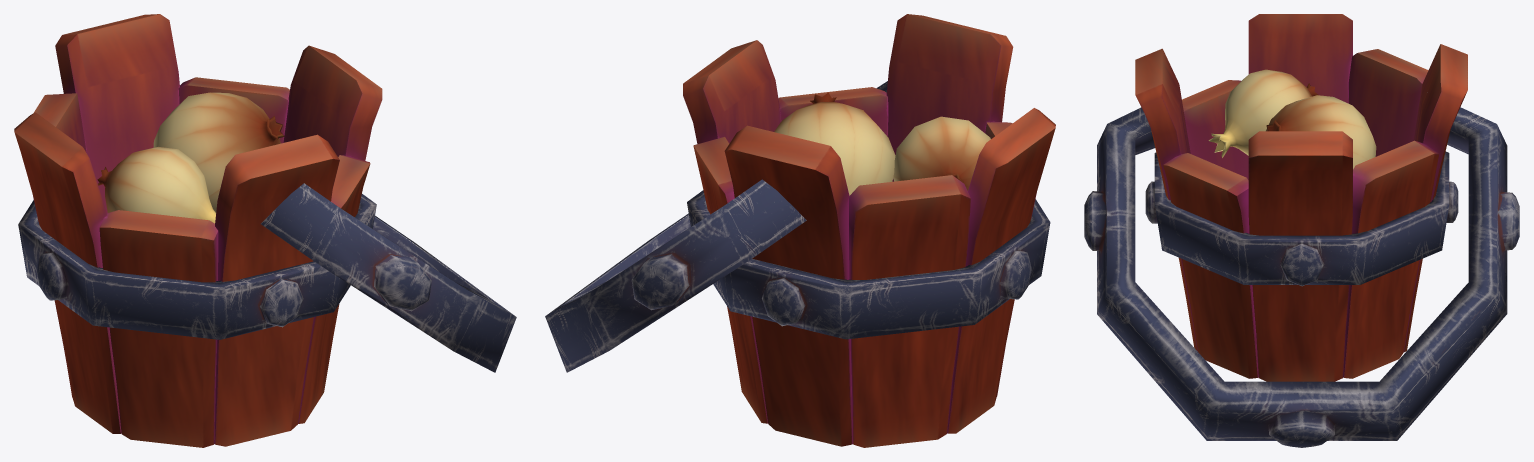
Rendered from onio_bucket.fbx.
3 views of the same model, side by side, from view 1: azimuth 30°, elevation 25°; view 2: azimuth 150°, elevation 25°; view 3: azimuth 270°, elevation 25° (orthographic). The views are drawn at different scales.
Parts seen in each view (by area): view 1: bucket.001, bucket_hoop.001, bucket_handle.001, onio.009, onio.010; view 2: bucket.001, bucket_hoop.001, bucket_handle.001, onio.009, onio.010; view 3: bucket.001, bucket_handle.001, bucket_hoop.001, onio.010, onio.009.
Boxes of the visible parts, box(x1,y1,x2,y2) form: bucket.001: box(14, 14, 382, 447); bucket_hoop.001: box(18, 194, 376, 339); bucket_handle.001: box(261, 183, 516, 372); onio.009: box(153, 92, 284, 212); onio.010: box(97, 146, 215, 223); bucket.001: box(683, 14, 1055, 447); bucket_hoop.001: box(687, 190, 1050, 339); bucket_handle.001: box(545, 81, 887, 372); onio.009: box(774, 92, 895, 195); onio.010: box(893, 116, 990, 190); bucket.001: box(1135, 14, 1467, 381); bucket_handle.001: box(1084, 92, 1519, 447); bucket_hoop.001: box(1145, 151, 1458, 286); onio.010: box(1208, 69, 1318, 157); onio.009: box(1266, 95, 1376, 169).
Size of the model in its own units: 665 by 459 by 648.
